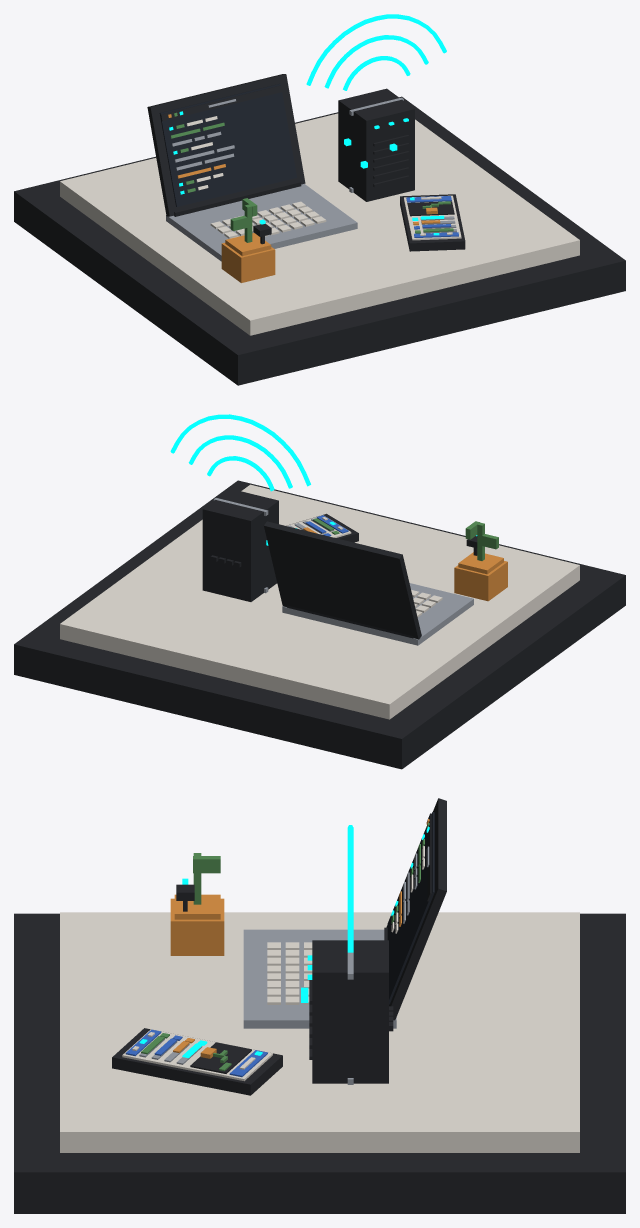
File: software_scene_mobile.glb
3 views of the same model, one above another, from view 1: azimuth 30°, elevation 25°; view 2: azimuth 150°, elevation 25°; view 3: azimuth 270°, elevation 25° (orthographic). The views are drawn at different scales.
Parts seen in each view (by area): view 1: PROP_plinth, PROP_laptop_display, PROP_server_chassis, PROP_laptop_base, PROP_laptop_screen, PROP_iot_pot, PROP_phone_body, FX_wifi_arc_2, PROP_term_titlebar, PROP_laptop_hinge, PROP_phone_screen, FX_wifi_arc_1 (+1 smaller); view 2: PROP_plinth, PROP_laptop_screen, PROP_server_chassis, PROP_laptop_base, PROP_iot_pot, FX_wifi_arc_2, FX_wifi_arc_1, PROP_iot_plant; view 3: PROP_plinth, PROP_server_chassis, PROP_laptop_base, PROP_iot_pot, PROP_laptop_display, PROP_phone_body, PROP_laptop_screen, PROP_phone_screen, PROP_app_card, FX_wifi_arc_2, PROP_iot_plant.
Boxes of the visible parts, x1,y1,x2,y2 form: PROP_plinth: (14, 96, 625, 385); PROP_laptop_display: (159, 83, 296, 206); PROP_server_chassis: (338, 88, 414, 201); PROP_laptop_base: (166, 184, 357, 261); PROP_laptop_screen: (147, 74, 305, 216); PROP_iot_pot: (221, 233, 275, 282); PROP_phone_body: (400, 194, 465, 251); FX_wifi_arc_2: (306, 14, 446, 85); PROP_term_titlebar: (161, 85, 282, 121); PROP_laptop_hinge: (174, 181, 301, 216); PROP_phone_screen: (404, 195, 461, 240); FX_wifi_arc_1: (324, 35, 428, 88); PROP_plinth: (14, 480, 625, 769); PROP_laptop_screen: (264, 521, 421, 639); PROP_server_chassis: (202, 489, 278, 601); PROP_laptop_base: (282, 583, 473, 645); PROP_iot_pot: (454, 552, 507, 601); FX_wifi_arc_2: (170, 414, 310, 486); FX_wifi_arc_1: (188, 435, 292, 488); PROP_iot_plant: (465, 521, 498, 560); PROP_plinth: (14, 912, 625, 1213); PROP_server_chassis: (312, 940, 388, 1083); PROP_laptop_base: (243, 929, 396, 1028); PROP_iot_pot: (170, 894, 224, 955); PROP_laptop_display: (387, 812, 434, 1004); PROP_phone_body: (112, 1028, 282, 1095); PROP_laptop_screen: (386, 798, 446, 1020); PROP_phone_screen: (122, 1029, 272, 1081); PROP_app_card: (190, 1042, 251, 1073); FX_wifi_arc_2: (347, 825, 353, 952); PROP_iot_plant: (193, 853, 220, 904).
Size of the model in its own units: 4 by 2.12 by 4.
